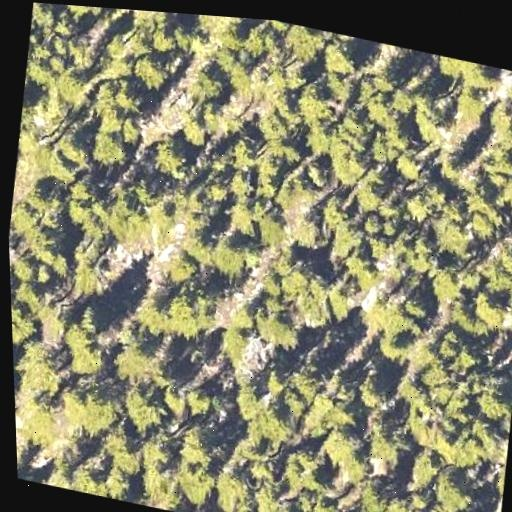tree-top: (166, 429, 226, 508), (418, 356, 485, 422), (451, 418, 509, 484), (13, 338, 71, 402), (63, 381, 123, 441), (298, 277, 353, 342), (154, 281, 211, 342), (359, 284, 416, 345), (276, 442, 333, 501), (64, 241, 115, 305), (57, 322, 110, 381), (358, 409, 411, 468), (118, 381, 172, 437), (320, 139, 373, 193), (318, 419, 370, 474), (173, 419, 221, 477), (408, 410, 461, 460), (429, 212, 479, 263), (426, 466, 481, 512), (284, 203, 332, 255), (257, 307, 304, 356), (173, 462, 219, 512), (86, 123, 133, 170), (250, 105, 297, 152), (149, 132, 195, 180), (465, 198, 511, 246), (208, 466, 255, 512), (281, 22, 326, 69), (187, 62, 232, 108), (354, 368, 396, 417), (50, 65, 94, 110), (348, 170, 391, 216), (293, 81, 335, 128), (317, 34, 360, 79), (209, 233, 250, 280), (428, 263, 471, 307), (221, 193, 262, 238), (129, 51, 171, 93), (472, 281, 511, 326), (11, 300, 45, 351), (119, 338, 160, 379), (405, 444, 445, 486), (225, 132, 263, 176), (320, 67, 360, 108), (328, 219, 368, 260), (474, 383, 512, 425), (187, 14, 242, 43), (249, 147, 286, 190), (390, 146, 431, 184), (139, 433, 177, 474), (216, 322, 252, 365), (54, 128, 93, 167), (455, 83, 493, 123), (70, 458, 107, 497), (175, 108, 211, 148), (110, 77, 146, 117), (182, 383, 219, 421), (100, 465, 137, 502), (181, 224, 217, 262), (455, 338, 491, 376), (65, 35, 100, 74), (432, 55, 477, 85), (355, 478, 394, 512), (9, 248, 42, 288), (256, 404, 292, 440), (400, 188, 435, 225), (234, 378, 268, 416), (385, 85, 420, 121), (223, 164, 257, 201), (145, 20, 179, 57), (110, 436, 144, 473), (199, 175, 234, 210), (23, 178, 55, 216), (69, 174, 104, 207), (292, 367, 324, 403), (435, 149, 468, 183), (24, 55, 57, 87), (366, 231, 396, 265), (494, 166, 512, 218), (55, 4, 97, 19), (310, 498, 346, 512), (20, 86, 34, 121), (13, 357, 21, 412), (269, 501, 309, 512), (82, 6, 114, 17), (399, 47, 428, 58), (506, 139, 512, 175), (341, 507, 379, 512)
